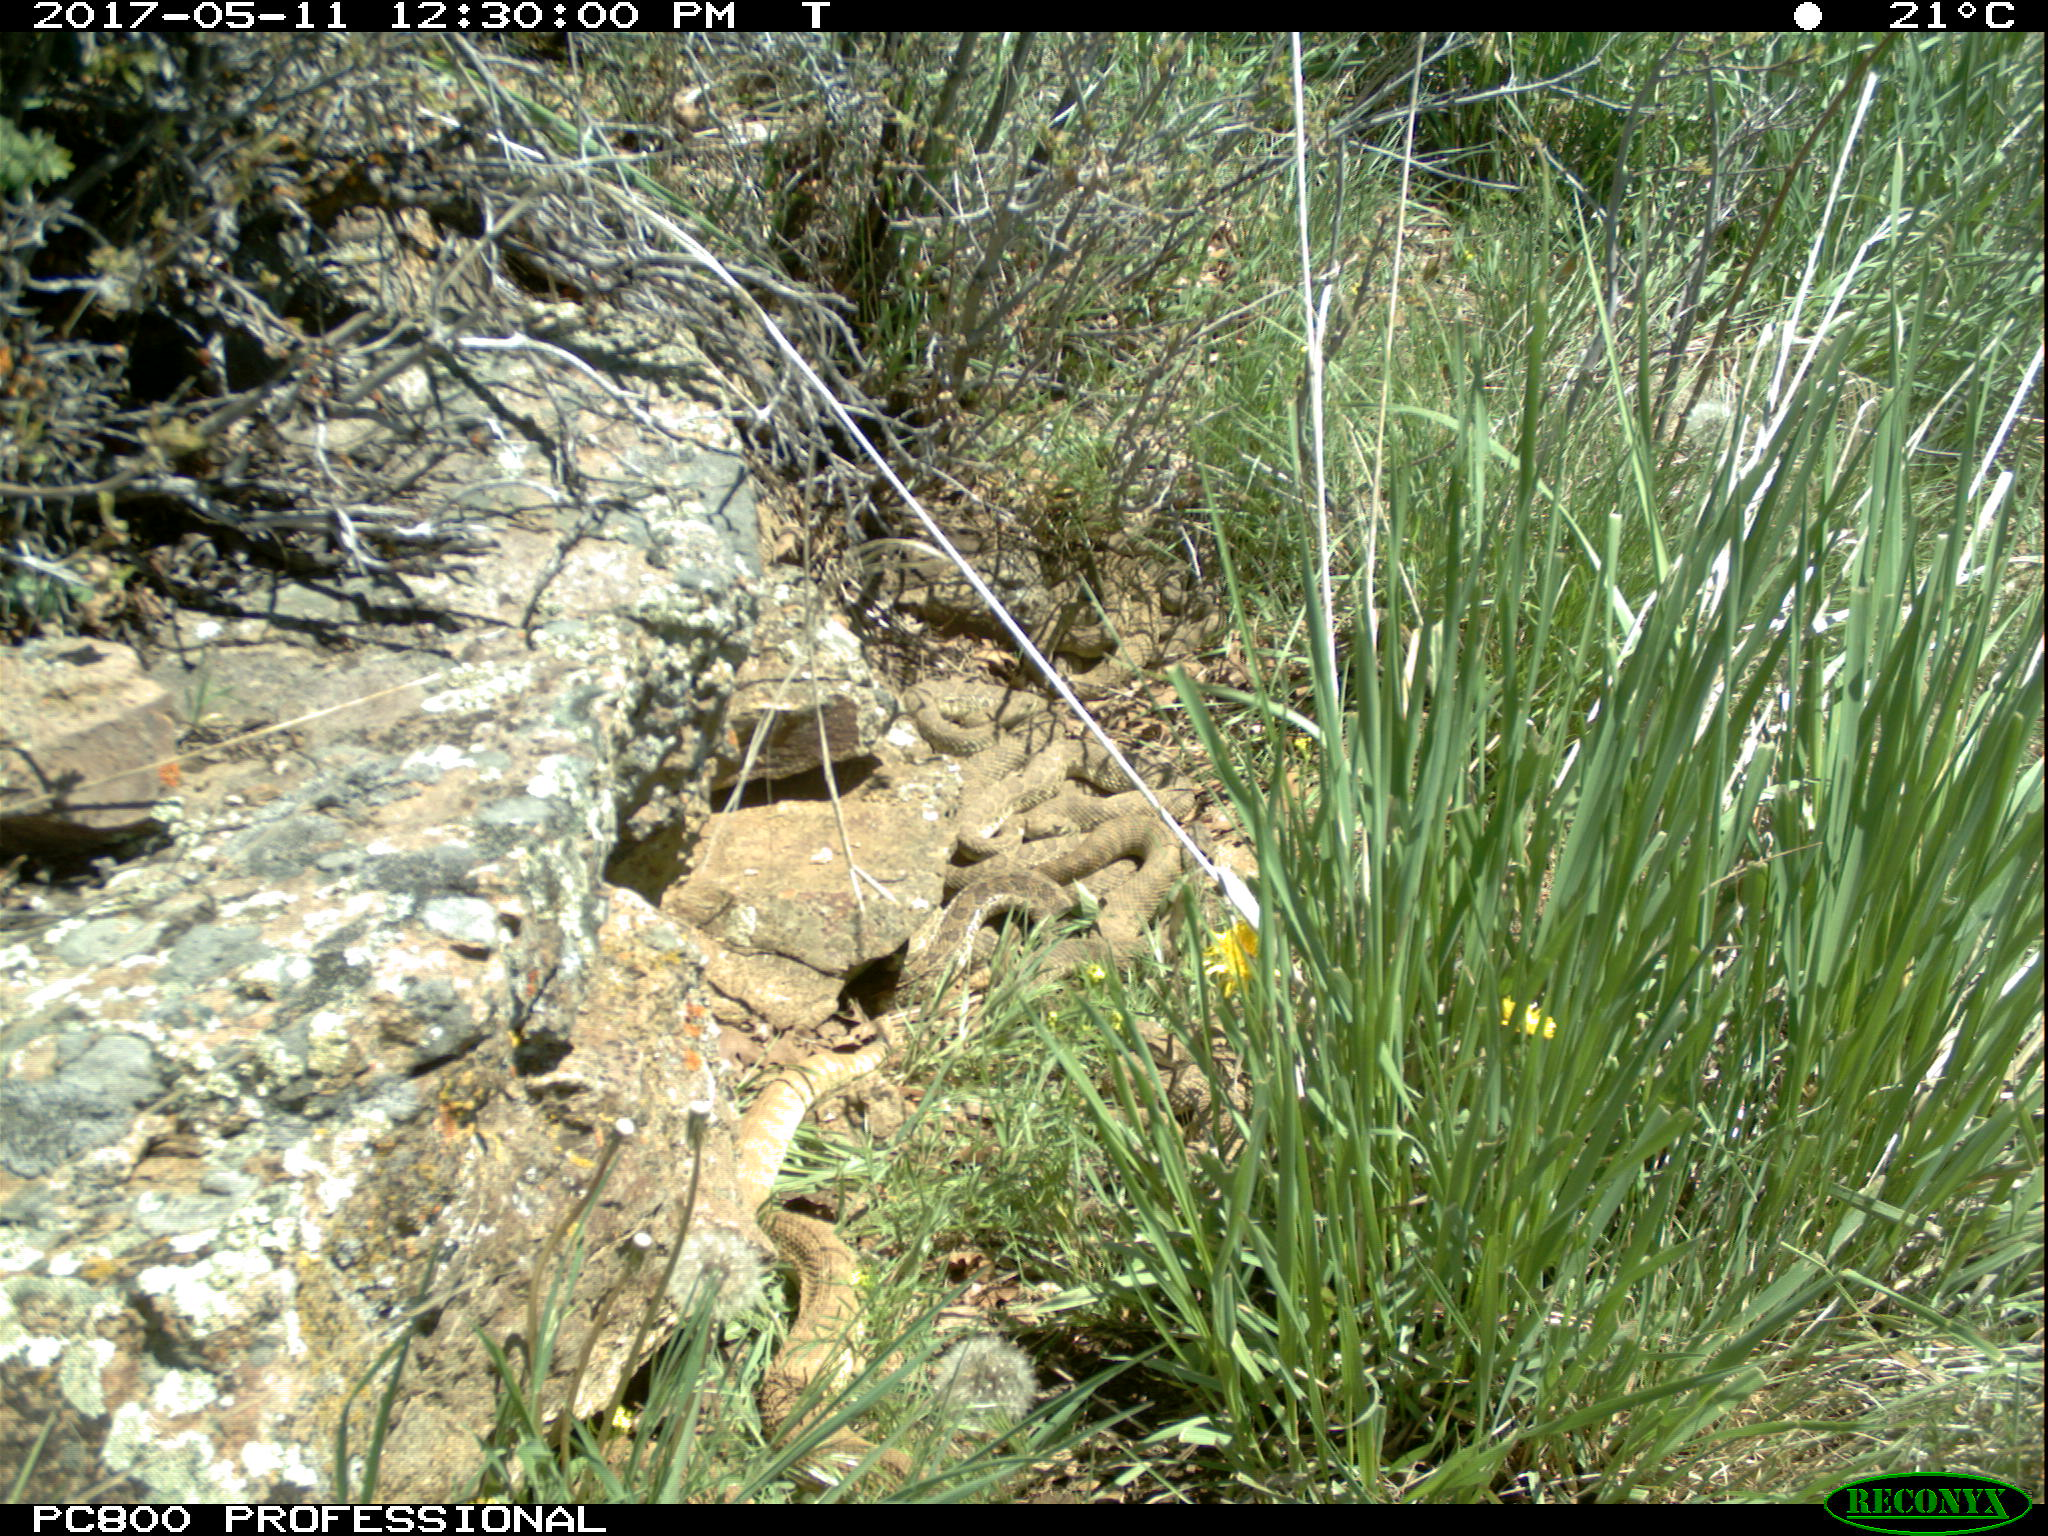snake: (751, 1205, 919, 1496), (947, 792, 1193, 942), (906, 686, 1169, 795), (732, 1041, 895, 1205), (924, 874, 1077, 971), (1056, 591, 1163, 687)
